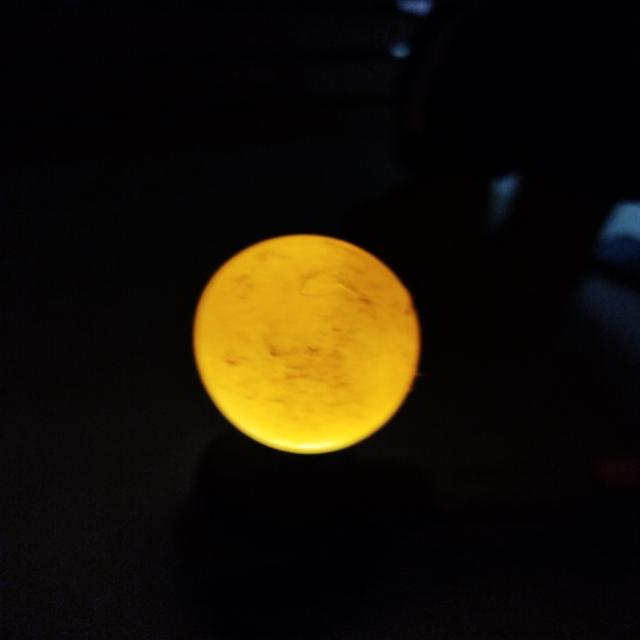Rachadura: (299, 273, 361, 301)
